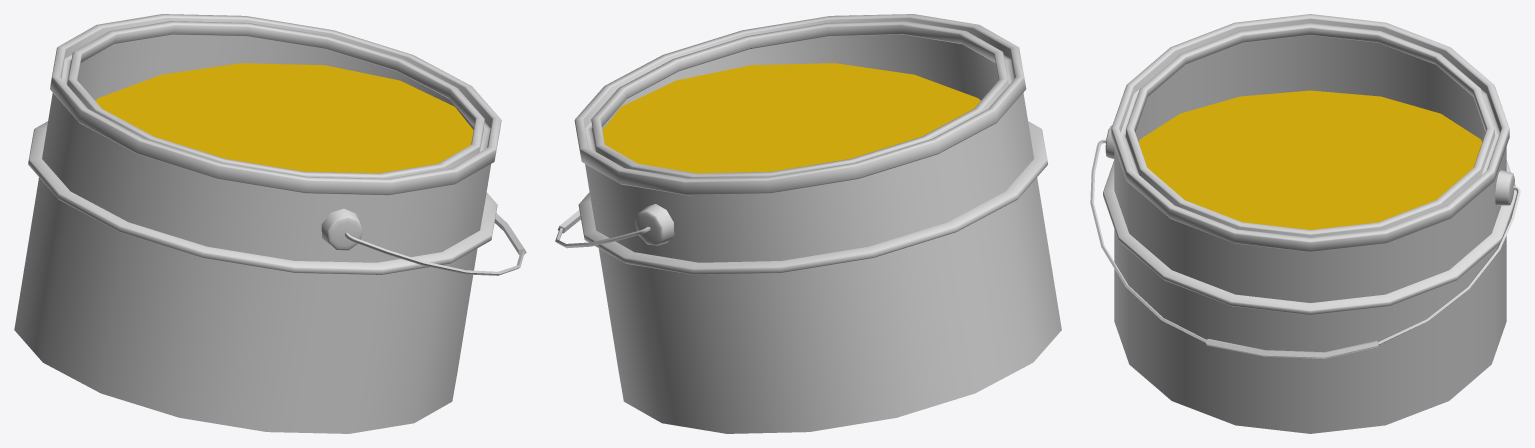
The model's file is Bucket.fbx.
3 views of the same model, side by side, from view 1: azimuth 30°, elevation 25°; view 2: azimuth 150°, elevation 25°; view 3: azimuth 270°, elevation 25° (orthographic). The views are drawn at different scales.
Visible parts, largest first — view 1: Bucket, Paint; view 2: Bucket, Paint; view 3: Bucket, Paint.
Boxes of the visible parts, left/top/right/bottom form: Bucket: left=14, top=14, right=526, bottom=433; Paint: left=95, top=63, right=473, bottom=173; Bucket: left=555, top=14, right=1061, bottom=433; Paint: left=602, top=63, right=980, bottom=173; Bucket: left=1090, top=14, right=1520, bottom=433; Paint: left=1138, top=90, right=1482, bottom=229.
Bounding box in the file's own units: 84.27 × 56.76 × 81.02.
